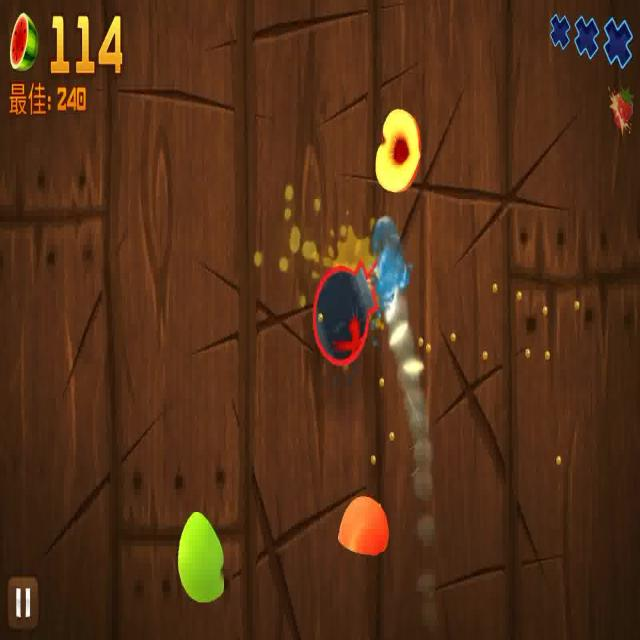bomb: (310, 241, 403, 372)
fruit: (178, 510, 226, 606), (372, 112, 426, 197), (337, 494, 391, 558)
